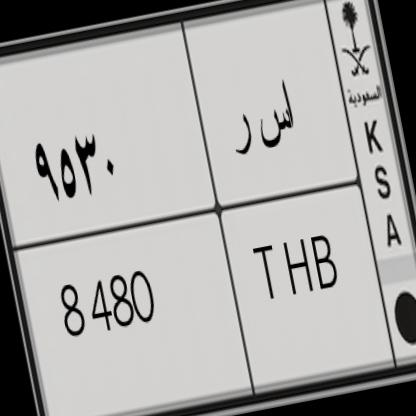english: (8, 168, 401, 416)
